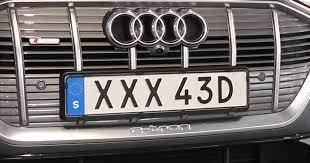license-plates: (65, 70, 249, 118)
